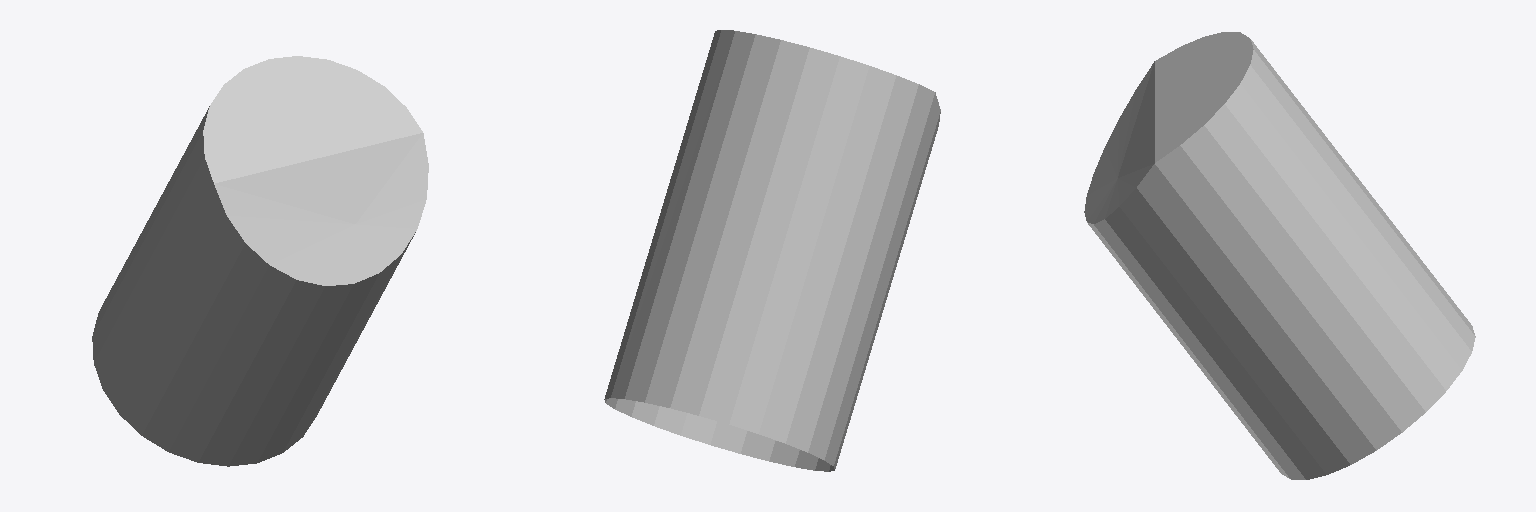
The model's file is antenna_connector.obj.
3 renders of one model, left to right at view 1: azimuth 30°, elevation 25°; view 2: azimuth 150°, elevation 25°; view 3: azimuth 270°, elevation 25°, orthographic.
Visible parts, largest first — view 1: Body.001; view 2: Body.001; view 3: Body.001.
Part boxes in pixels (x1,y1,x2,y2): Body.001: (92, 56, 428, 466); Body.001: (604, 30, 940, 471); Body.001: (1084, 32, 1475, 479).
Size of the model in its own units: 0.01 by 0.0188 by 0.0162.